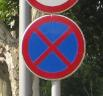No Parking: (23, 16, 88, 83)
